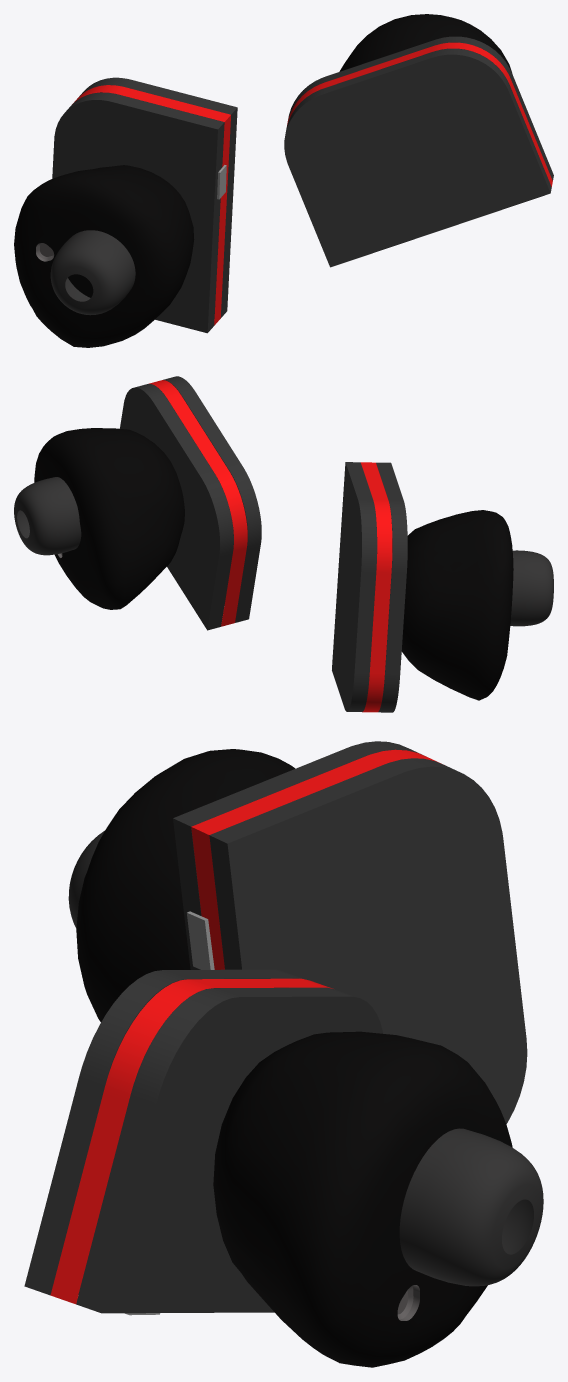
The model's file is ear-buds-for-AR.gltf.
3 renders of one model, top to bottom at view 1: azimuth 30°, elevation 25°; view 2: azimuth 150°, elevation 25°; view 3: azimuth 270°, elevation 25°, orthographic. The views are drawn at different scales.
Visible parts, largest first — view 1: Loft1, Sphere_1, Loft_3, Lathe_3, Sphere, Loft1_3, light_2, Loft, Loft2; view 2: Sphere, Sphere_1, Loft, Loft1_3, Lathe, Loft_3, light_2, Loft1, Loft2, Lathe_3; view 3: Loft1_3, Sphere, Loft, Sphere_1, Lathe, Loft1, Loft2, light_2, Loft_3, switch_1, Lathe_3.
Boxes of the visible parts, box(x1,y1,x2,y2) form: Loft1: box(284, 48, 551, 267); Sphere_1: box(14, 165, 194, 347); Loft_3: box(52, 92, 224, 333); Lathe_3: box(50, 230, 135, 315); Sphere: box(339, 14, 511, 72); Loft1_3: box(79, 77, 237, 318); light_2: box(72, 85, 230, 325); Loft: box(288, 36, 553, 181); Loft2: box(287, 42, 552, 186); Sphere: box(34, 428, 184, 609); Sphere_1: box(401, 510, 513, 700); Loft: box(120, 384, 233, 630); Loft1_3: box(332, 462, 377, 711); Lathe: box(14, 477, 81, 555); Loft_3: box(376, 462, 407, 712); light_2: box(360, 462, 392, 712); Loft1: box(158, 376, 261, 622); Loft2: box(149, 380, 247, 626); Lathe_3: box(510, 550, 553, 626); Loft1_3: box(209, 758, 527, 1123); Sphere: box(213, 1031, 512, 1367); Loft: box(76, 987, 383, 1313); Sphere_1: box(76, 749, 295, 1021); Lathe: box(399, 1128, 543, 1286); Loft1: box(24, 969, 307, 1295); Loft2: box(50, 978, 333, 1304); light_2: box(191, 749, 441, 969); Loft_3: box(173, 741, 423, 969); switch_1: box(187, 911, 214, 969); Lathe_3: box(68, 830, 104, 927).
Size of the model in its own units: 986 by 446 by 467.
